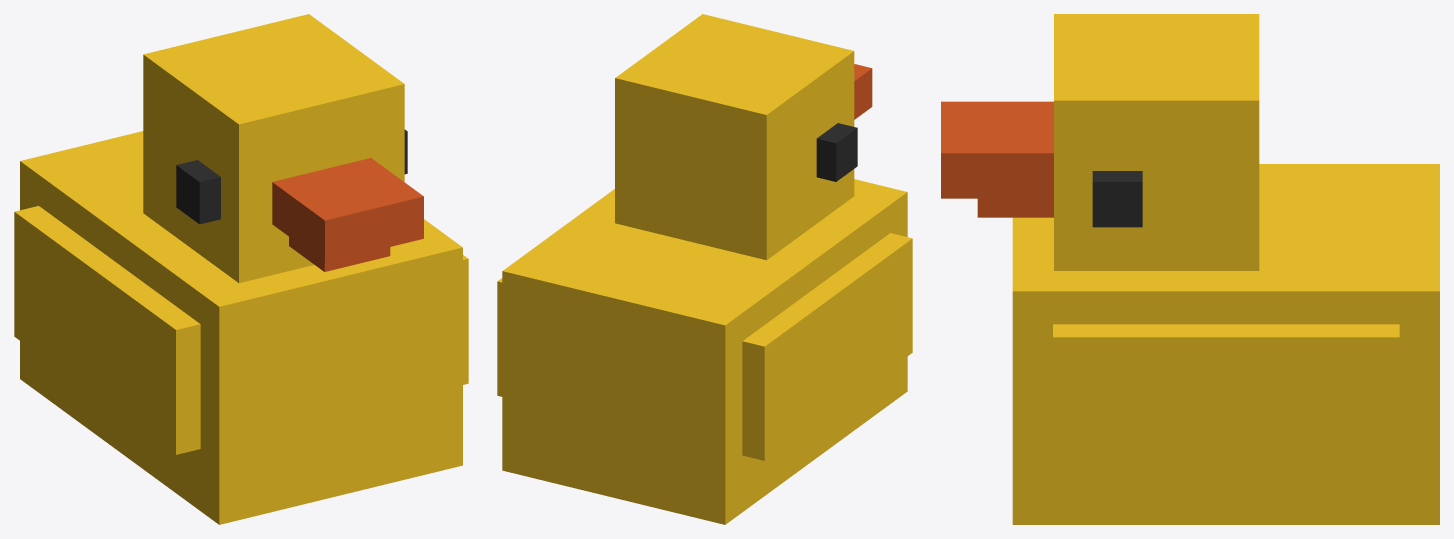
The model's file is duck.fbx.
3 renders of one model, left to right at view 1: azimuth 30°, elevation 25°; view 2: azimuth 150°, elevation 25°; view 3: azimuth 270°, elevation 25°, orthographic. The views are drawn at different scales.
Visible parts, largest first — view 1: Cube.001; view 2: Cube.001; view 3: Cube.001.
Boxes of the visible parts, x1,y1,x2,y2 form: Cube.001: [14, 14, 468, 524]; Cube.001: [497, 14, 912, 524]; Cube.001: [941, 14, 1439, 524].
Bounding box in the file's own units: 13.76 × 16.95 × 18.97.
